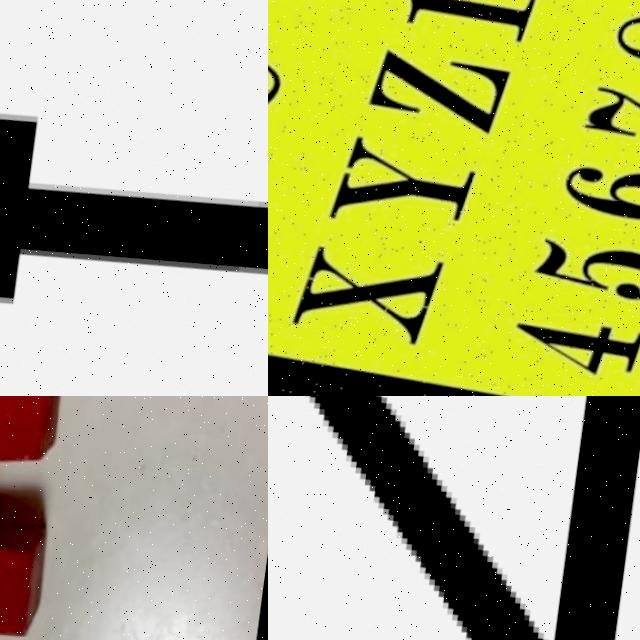1: (369, 0, 555, 80)
4: (486, 276, 640, 396)
5: (509, 204, 640, 344)
6: (542, 133, 640, 270)
7: (549, 53, 640, 198)
8: (584, 0, 640, 114)
A: (0, 396, 69, 640)
T: (0, 64, 268, 373)
Z: (268, 396, 640, 640)
